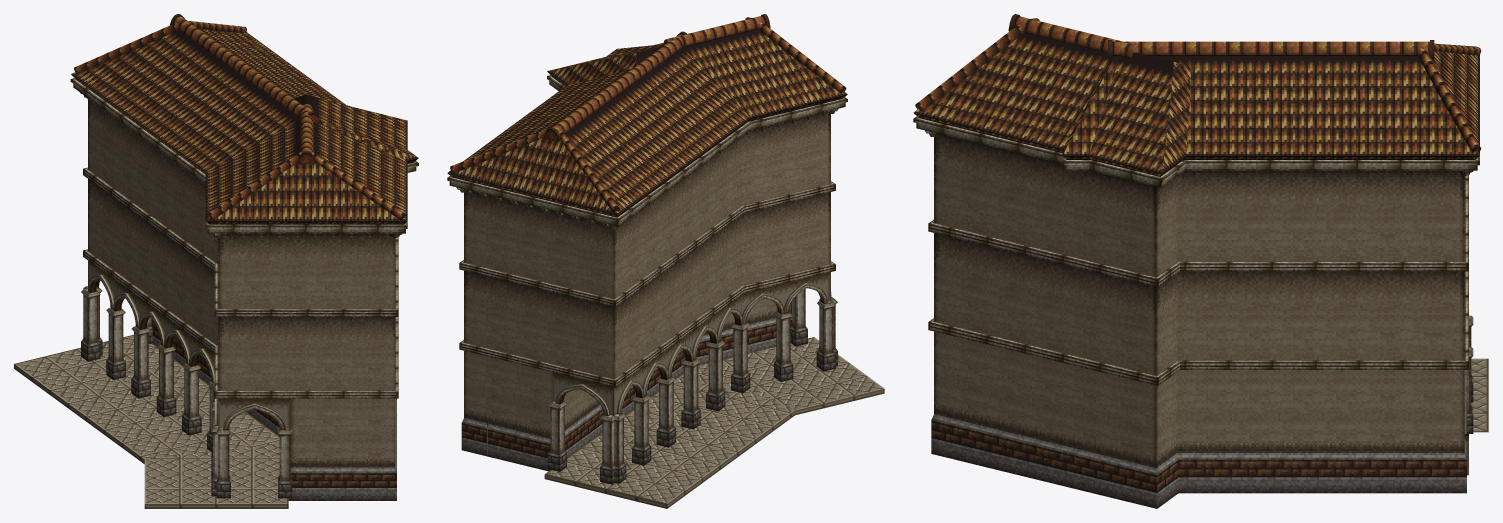
The model's file is EnvBdgMD_Sea_A_Outdoor_Cafe_A.FBX.
3 renders of one model, left to right at view 1: azimuth 30°, elevation 25°; view 2: azimuth 150°, elevation 25°; view 3: azimuth 270°, elevation 25°, orthographic. The views are drawn at different scales.
Parts seen in each view (by area): view 1: EnvBdgMD_Sea_A_Outdoor_Cafe_A; view 2: EnvBdgMD_Sea_A_Outdoor_Cafe_A; view 3: EnvBdgMD_Sea_A_Outdoor_Cafe_A.
Boxes of the visible parts, box(x1,y1,x2,y2) form: EnvBdgMD_Sea_A_Outdoor_Cafe_A: box(14, 14, 418, 508); EnvBdgMD_Sea_A_Outdoor_Cafe_A: box(447, 14, 884, 508); EnvBdgMD_Sea_A_Outdoor_Cafe_A: box(913, 14, 1488, 508).
Bounding box in the file's own units: 973 × 1031 × 1323.
Materials: 2 (2 with a texture image).
